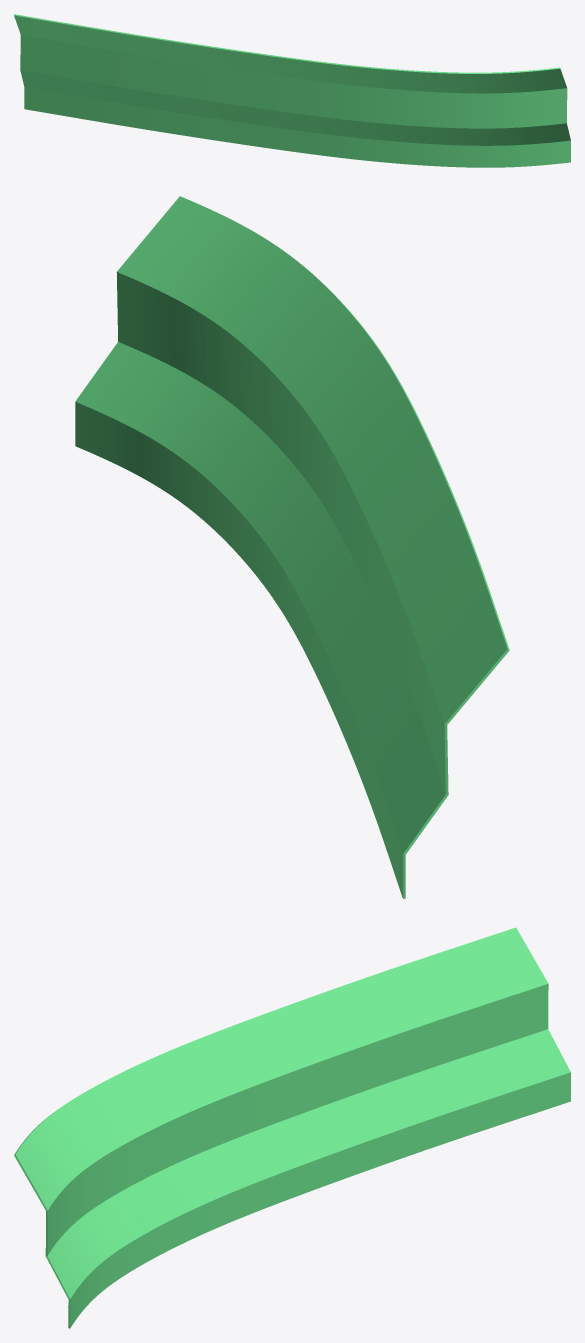
File: fence 2.fbx
3 renders of one model, top to bottom at view 1: azimuth 30°, elevation 25°; view 2: azimuth 150°, elevation 25°; view 3: azimuth 270°, elevation 25°, orthographic. The views are drawn at different scales.
Parts seen in each view (by area): view 1: Plane.005; view 2: Plane.005; view 3: Plane.005.
Boxes of the visible parts, left/top/right/bottom form: Plane.005: left=14, top=14, right=570, bottom=167; Plane.005: left=75, top=196, right=509, bottom=898; Plane.005: left=14, top=927, right=570, bottom=1328.
Bounding box in the file's own units: 5330 × 1546 × 5067.
